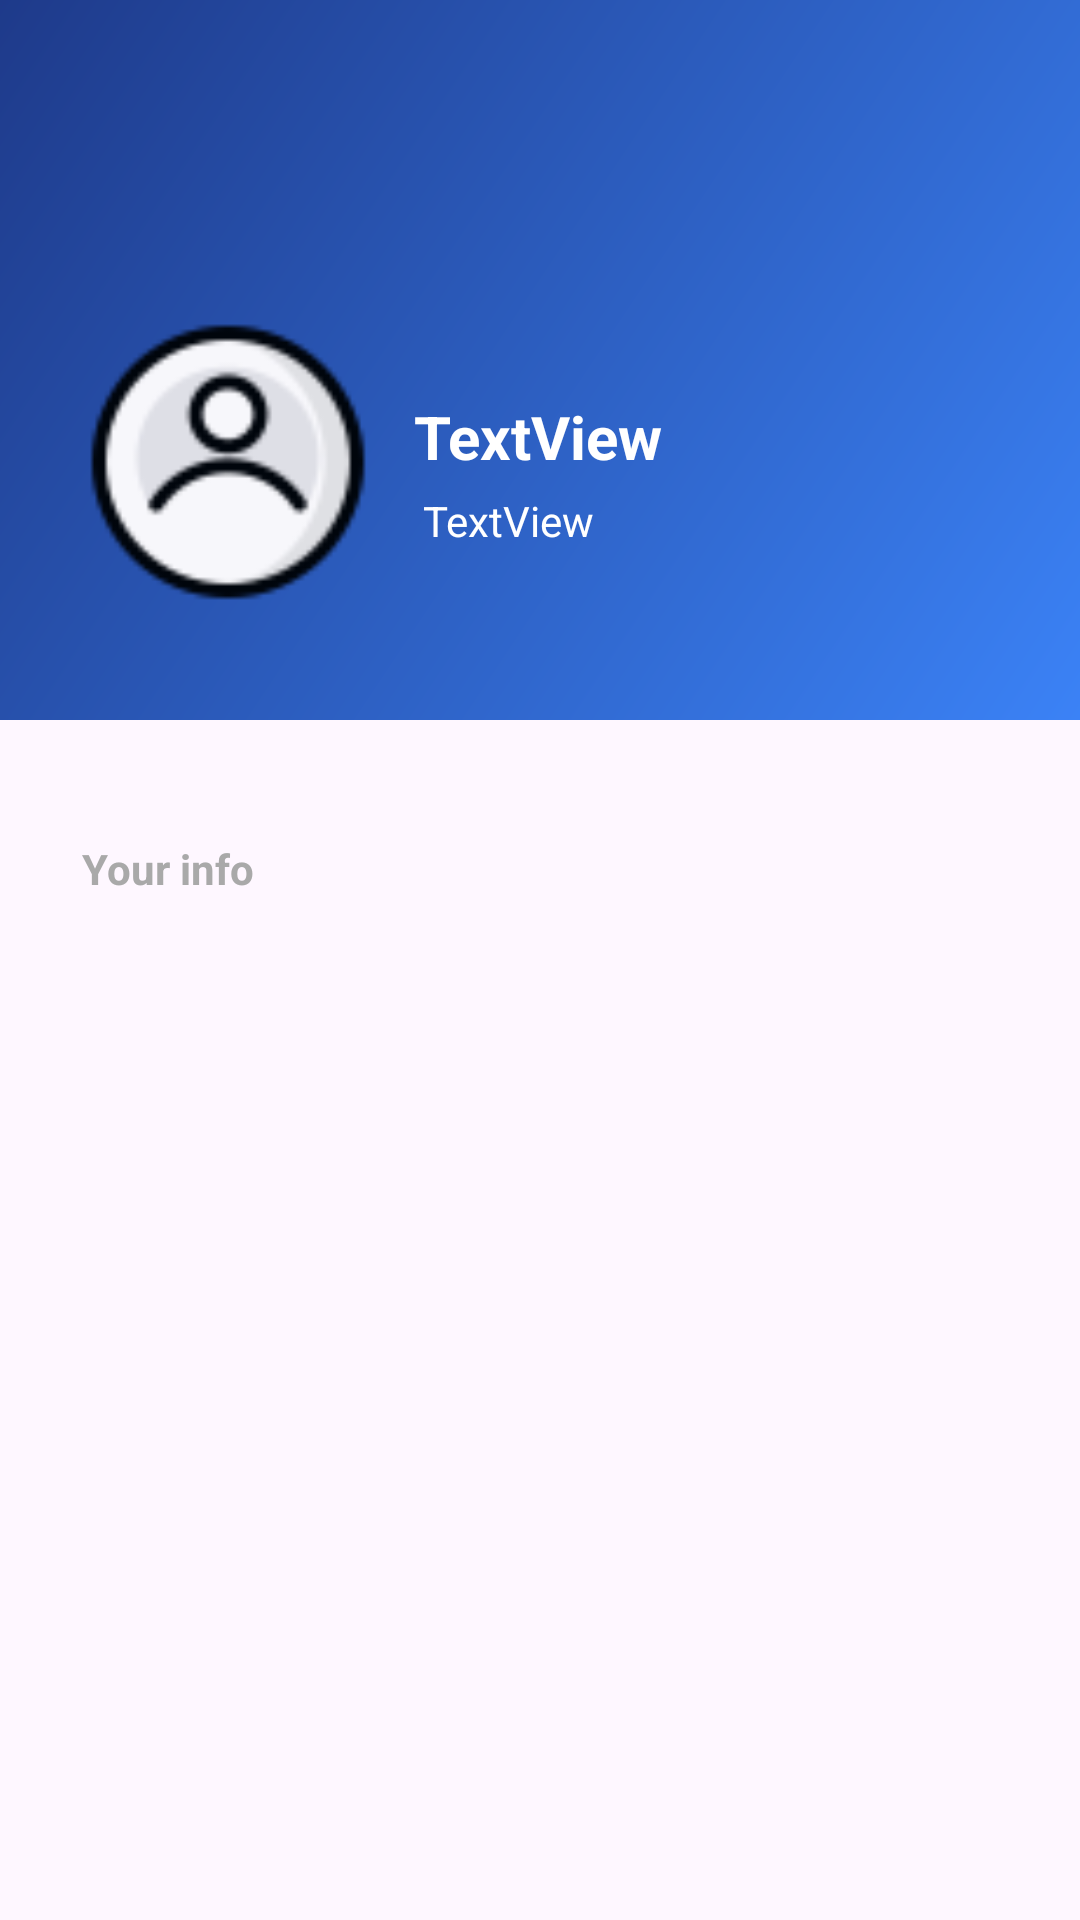

Icons on this 1080 × 1920 Android screen, each with its box as (x1, y1, x2, y2):
user: (91, 325, 365, 599)
